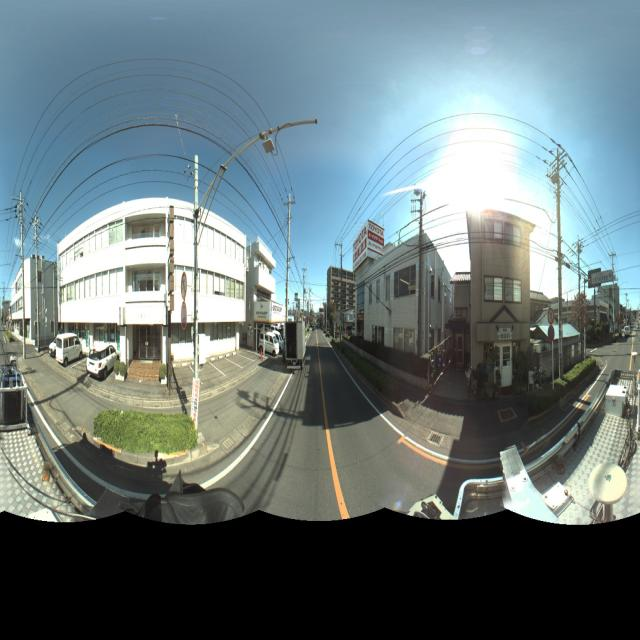b_1: (58, 202, 248, 376), (354, 227, 448, 361), (471, 197, 530, 386), (11, 252, 60, 362), (247, 233, 275, 353), (324, 257, 356, 325)
